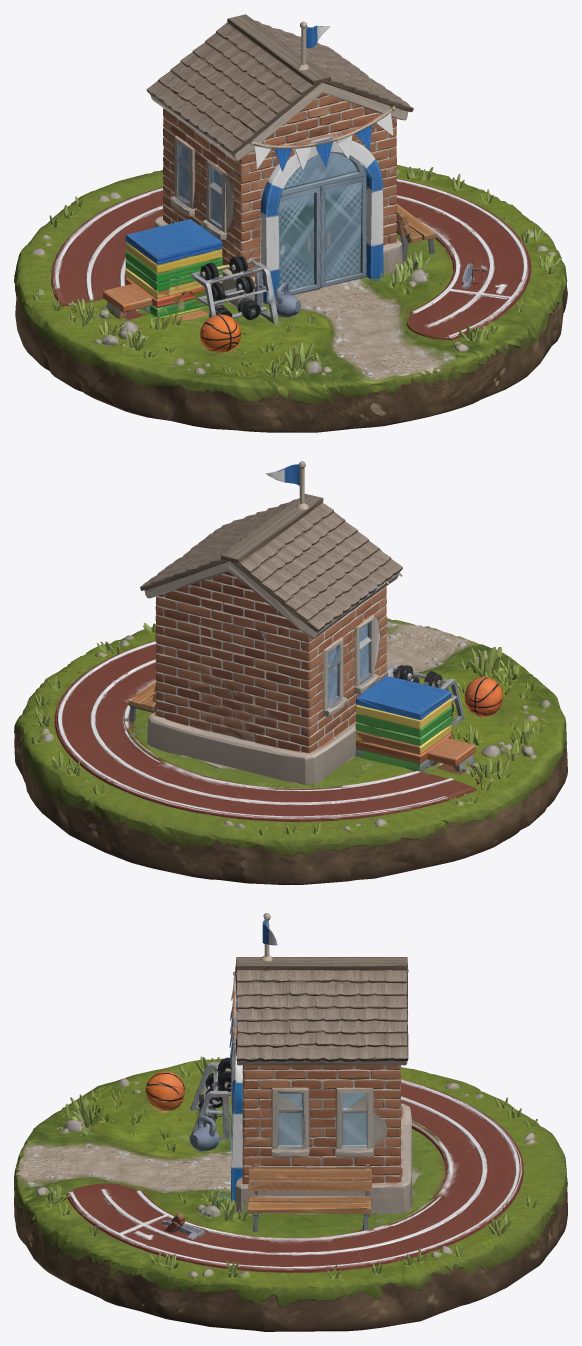
The model's file is gym.glb.
The picture shows the model from 3 angles, top to bottom: view 1: azimuth 30°, elevation 25°; view 2: azimuth 150°, elevation 25°; view 3: azimuth 270°, elevation 25°; orthographic projection.
Bounding box in the file's own units: 1.9 × 1.15 × 1.9.
1 material, 1 textured.
